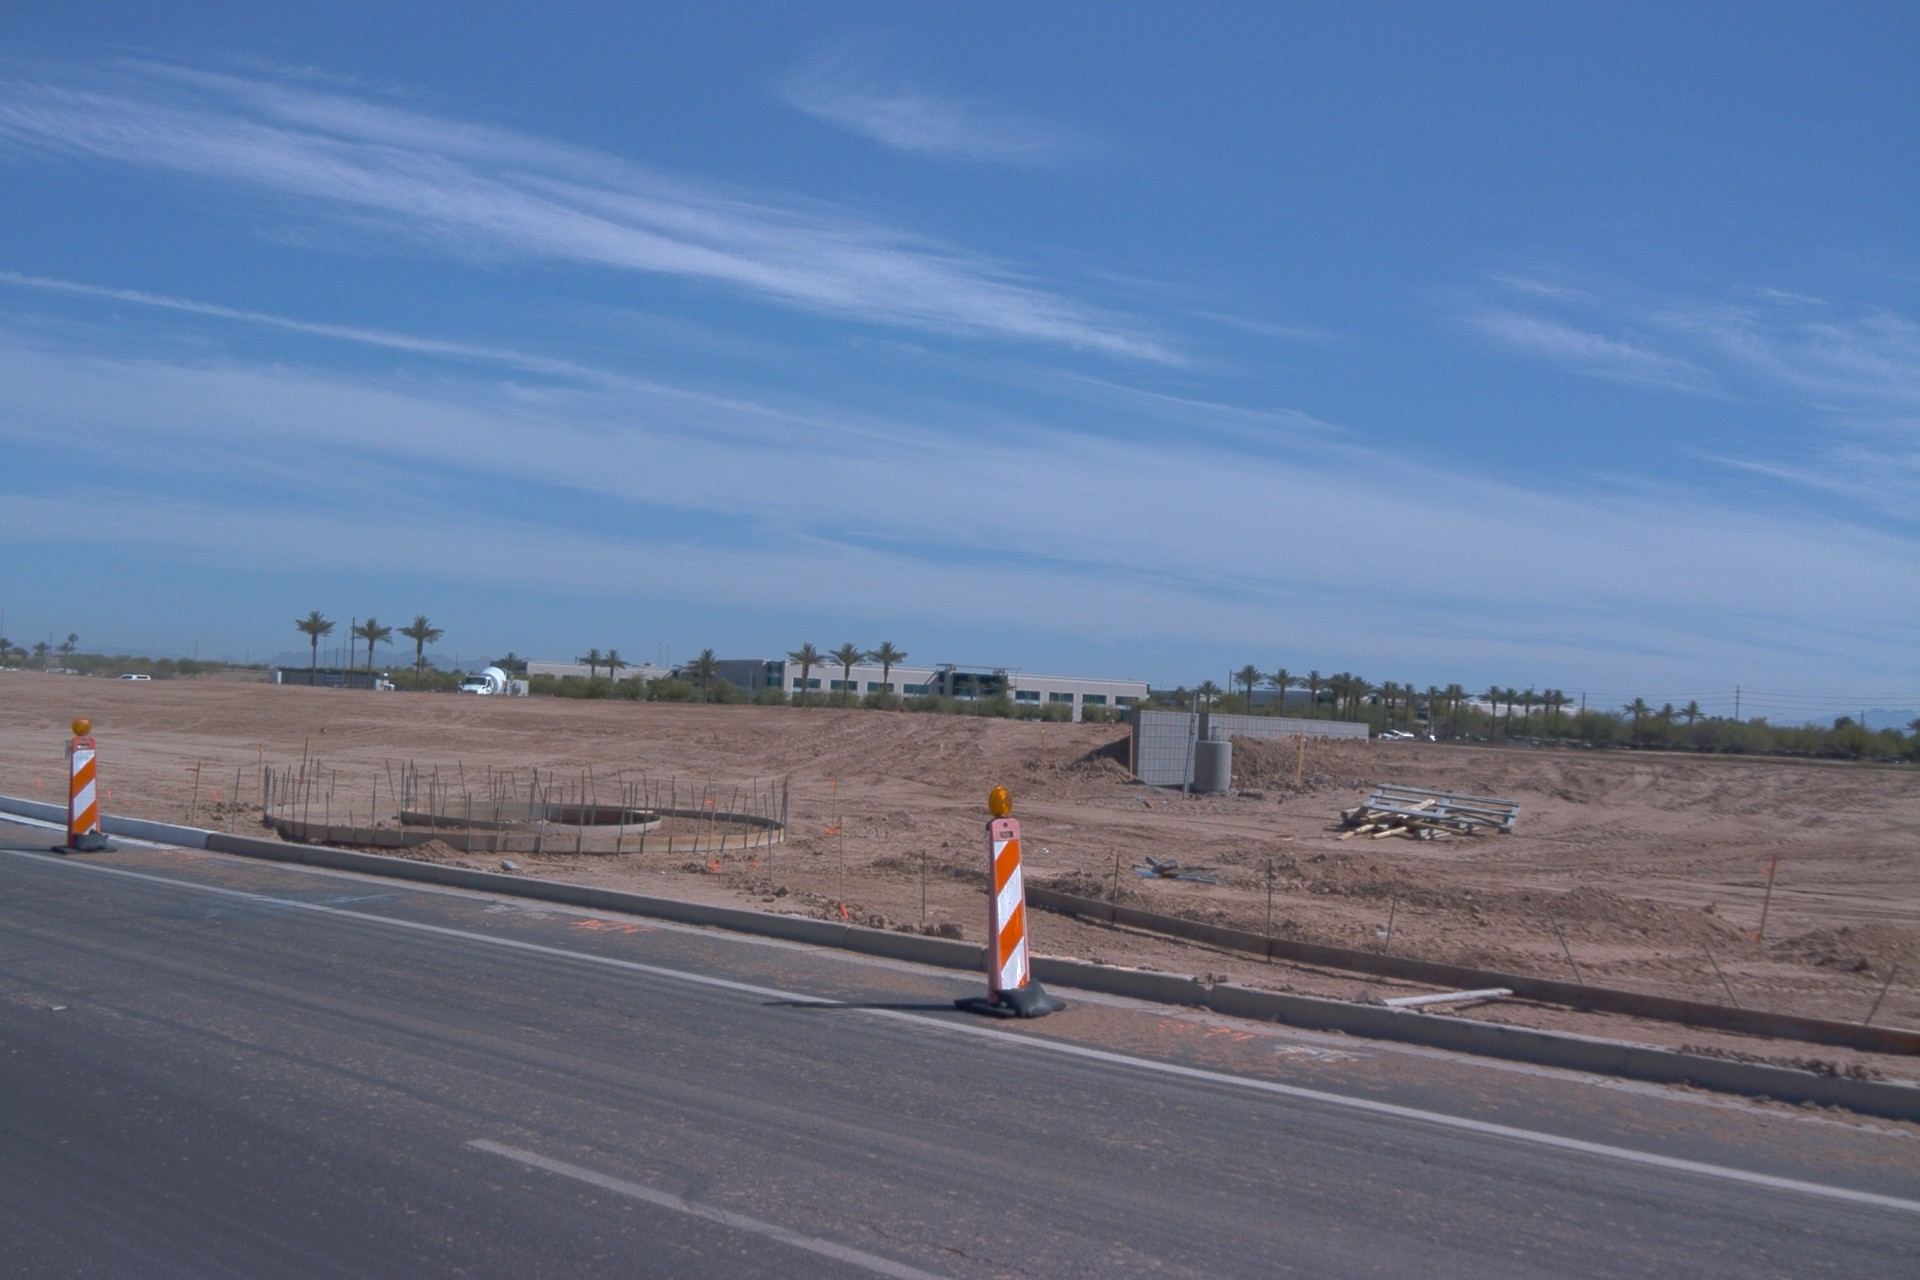TYPE_VEHICLE: (457, 666, 510, 699), (457, 666, 510, 699), (457, 666, 510, 699), (457, 666, 510, 699), (119, 676, 151, 684), (119, 676, 151, 684), (119, 676, 151, 684), (119, 676, 151, 684), (0, 666, 6, 670), (0, 666, 6, 670), (0, 666, 6, 670), (0, 666, 6, 670)
